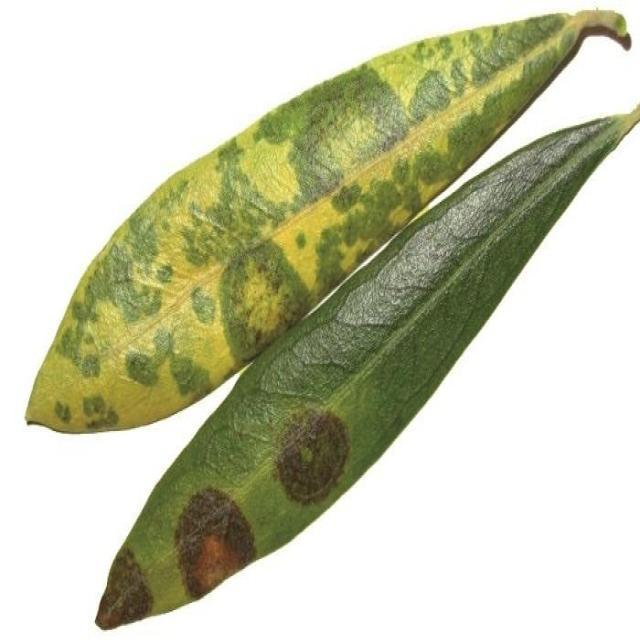OlivePeacockSpot: (97, 106, 639, 630), (26, 23, 566, 431)
